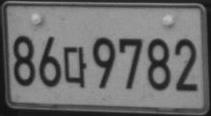2: (174, 37, 197, 91)
6: (38, 36, 62, 87)
7: (119, 37, 142, 89)
8: (146, 38, 171, 90), (12, 34, 36, 86)
9: (92, 36, 116, 89)
다: (63, 46, 87, 87)
